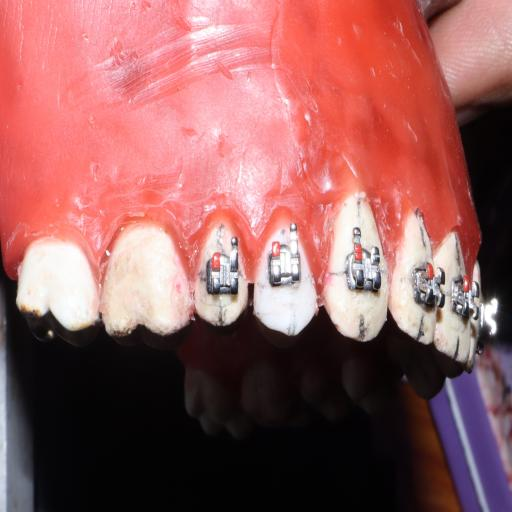correct_brace: (250, 221, 320, 336)
